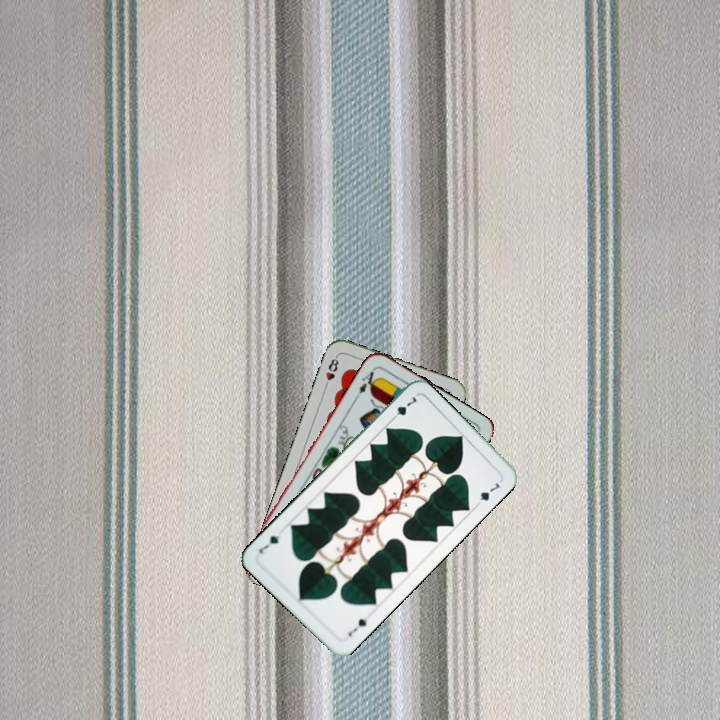EA: (355, 364, 381, 396)
G7: (386, 392, 420, 424), (344, 614, 369, 639)
H8: (320, 352, 341, 391)
